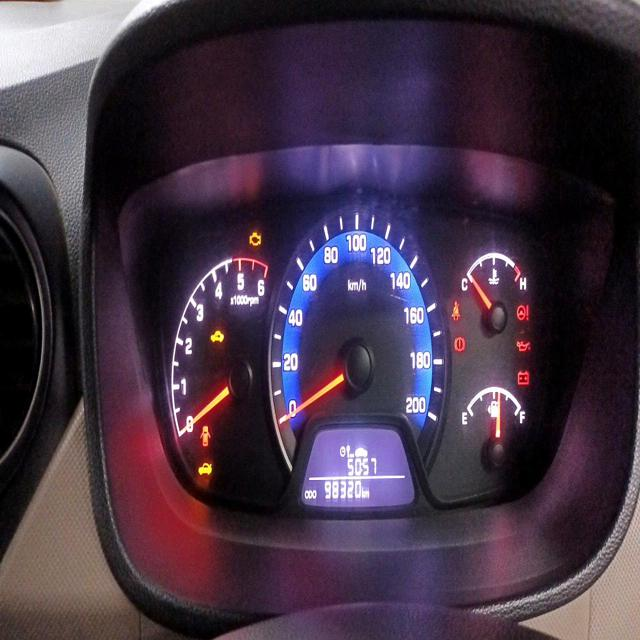odometer: (319, 477, 363, 505)
